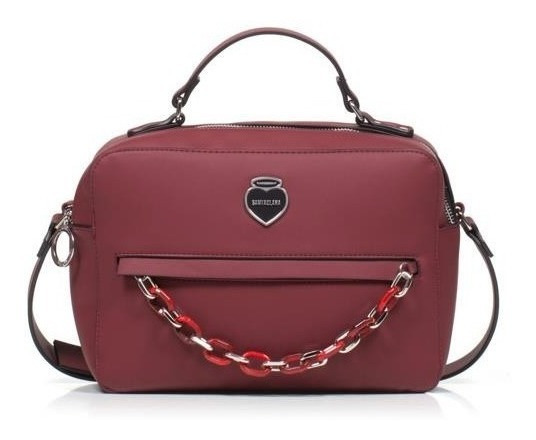cartera: (25, 24, 496, 391)
